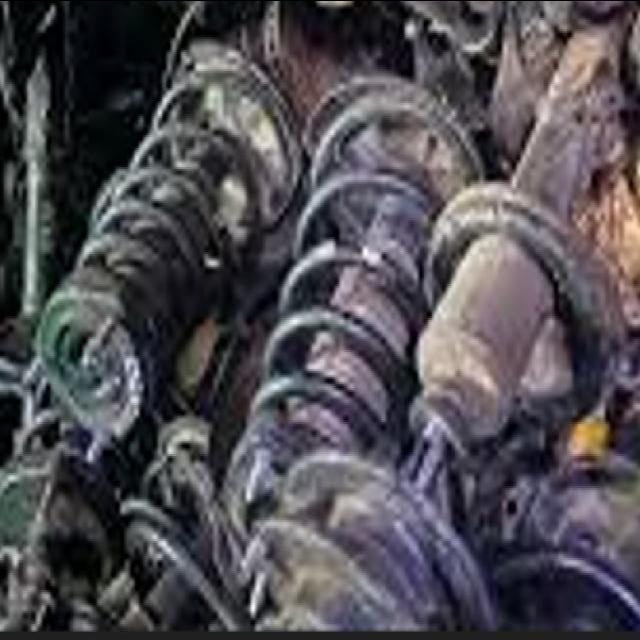shock absorber: (224, 72, 487, 553), (39, 41, 311, 438)
